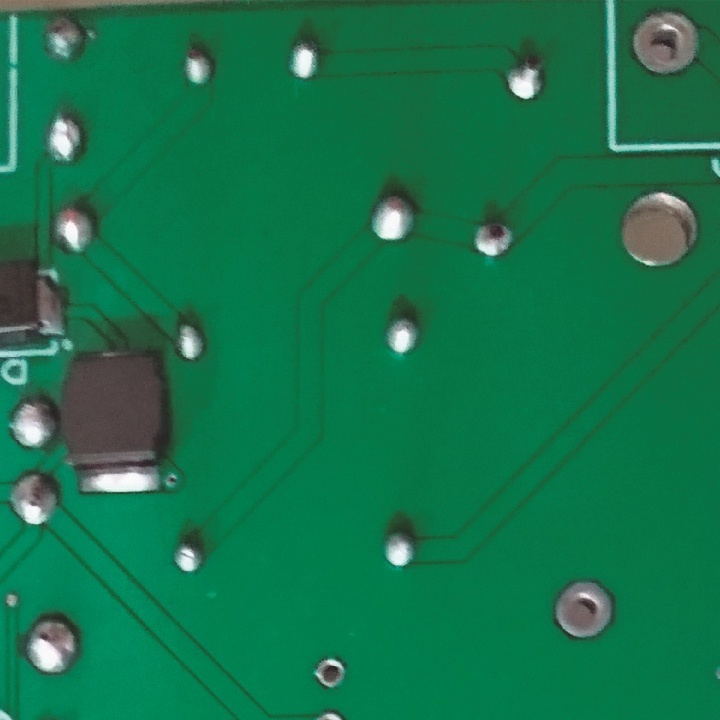F: (625, 7, 704, 79), (550, 580, 616, 643), (310, 655, 348, 689)
